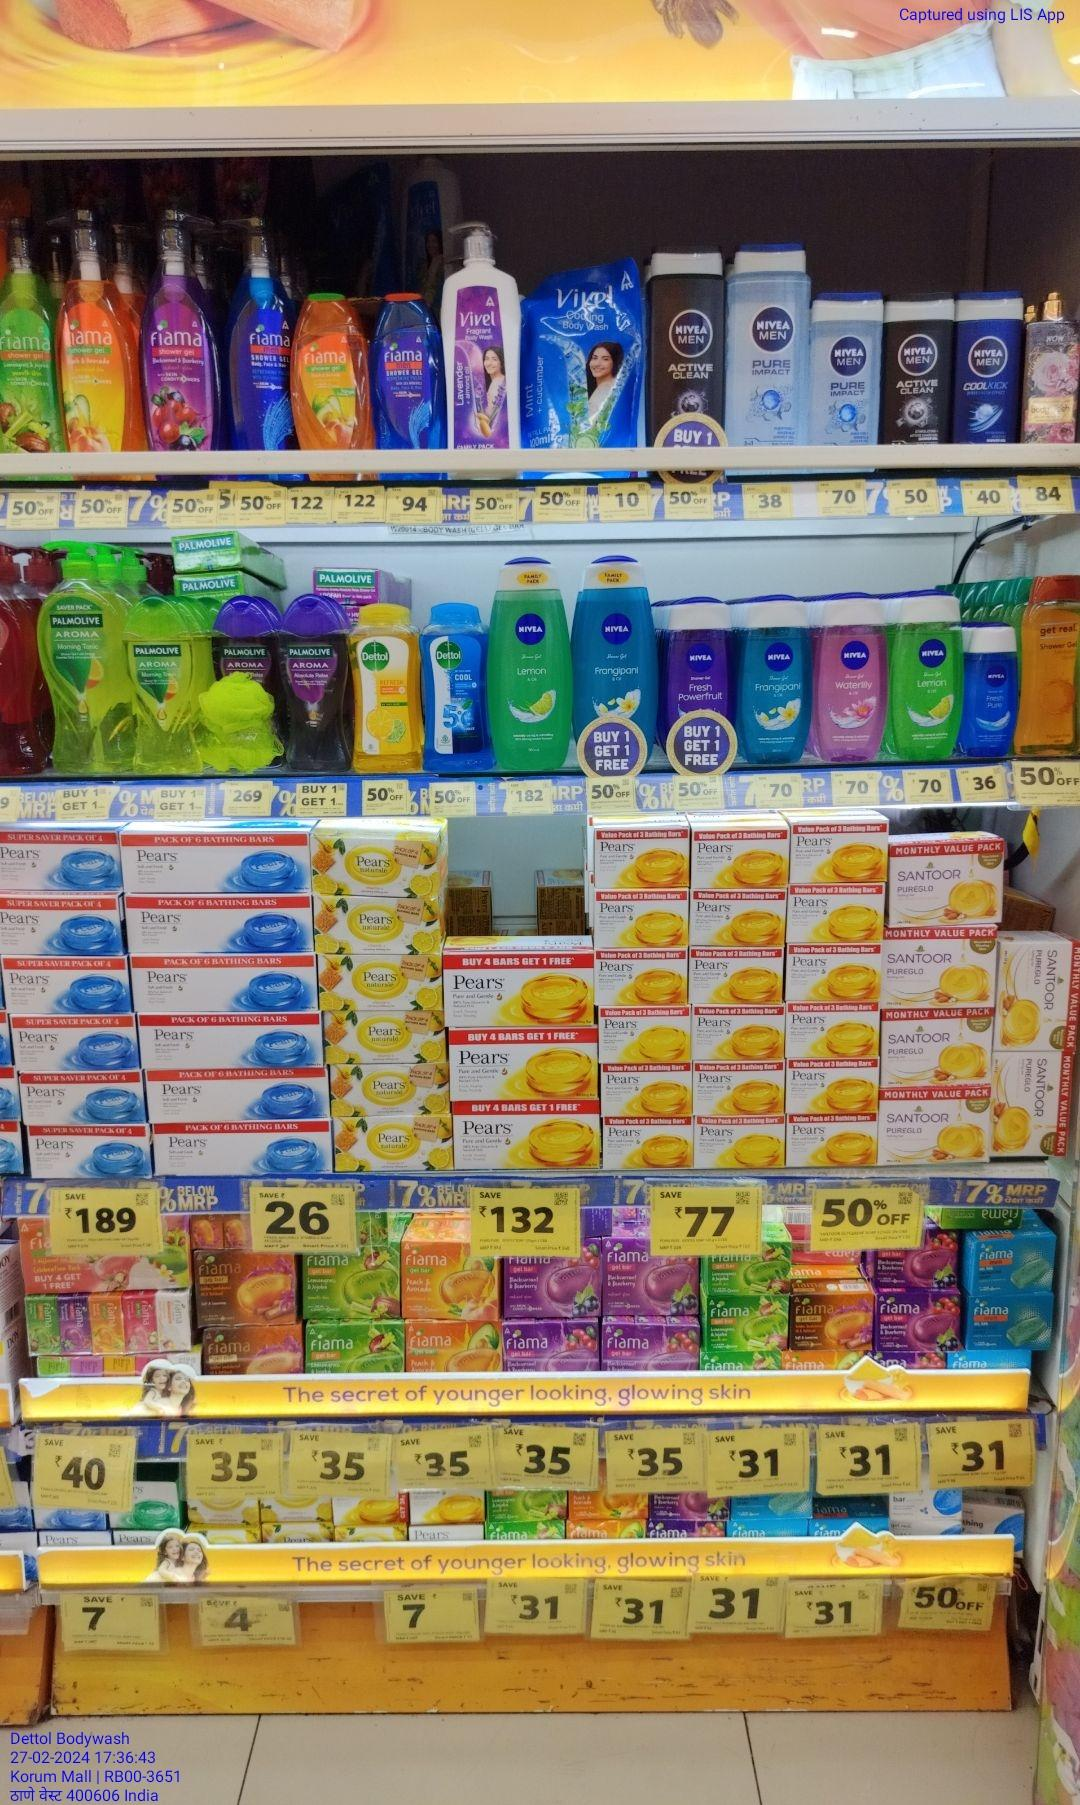Dettol_Bodywash_Cool: (422, 593, 487, 774)
Dettol_Bodywash_Refresh: (352, 603, 419, 777)
Fiama_Shower_Gel_Peach_and_Avocado_250ML: (293, 291, 372, 482)
Get_Real_Shower_Gel_Moisturising_Glycerin_300ML: (1017, 568, 1080, 759)
Nivea_Shower_Gel_Frangipani_and_Oil_250ML: (577, 550, 654, 764), (743, 593, 809, 768)
Nivea_Shower_Gel_Fresh_Powerfruit_250ML: (666, 595, 733, 714)
Nivea_Shower_Gel_Lemon_and_Oil_250ML: (496, 557, 577, 777), (896, 584, 958, 764)
Nivea_Shower_Gel_Waterlily_and_Oil_250ML: (820, 586, 886, 764)
Palmolive_Aroma_Morning_Tonic_Shower_Gel_250ML: (126, 593, 204, 779)
Palmolive_Aroma_Relax_250ML: (275, 599, 345, 771)
